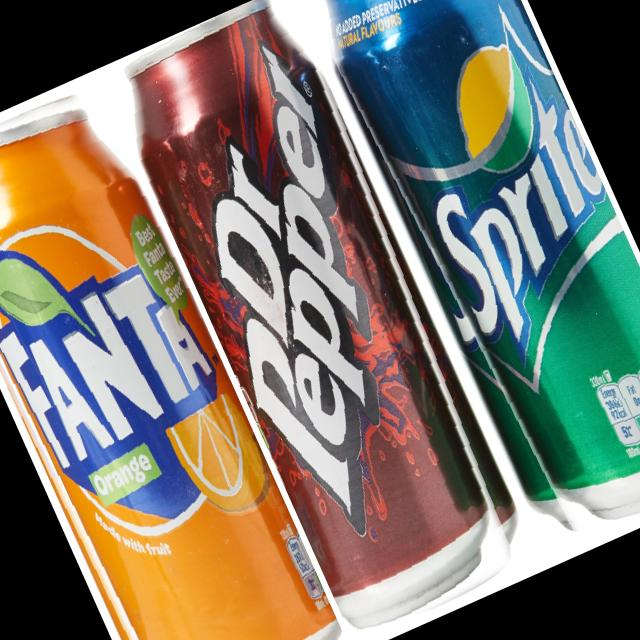Cans: (98, 0, 548, 640), (0, 70, 353, 640), (294, 0, 640, 563)
